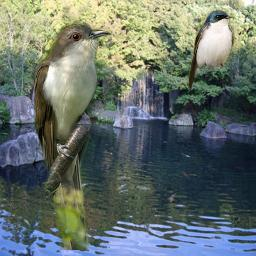Cuckoo: (34, 16, 112, 250)
Swallow: (188, 7, 236, 91)
